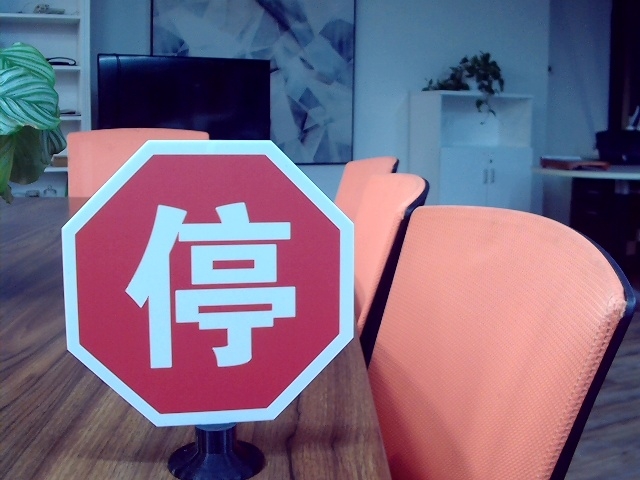stop: (123, 201, 299, 368)
